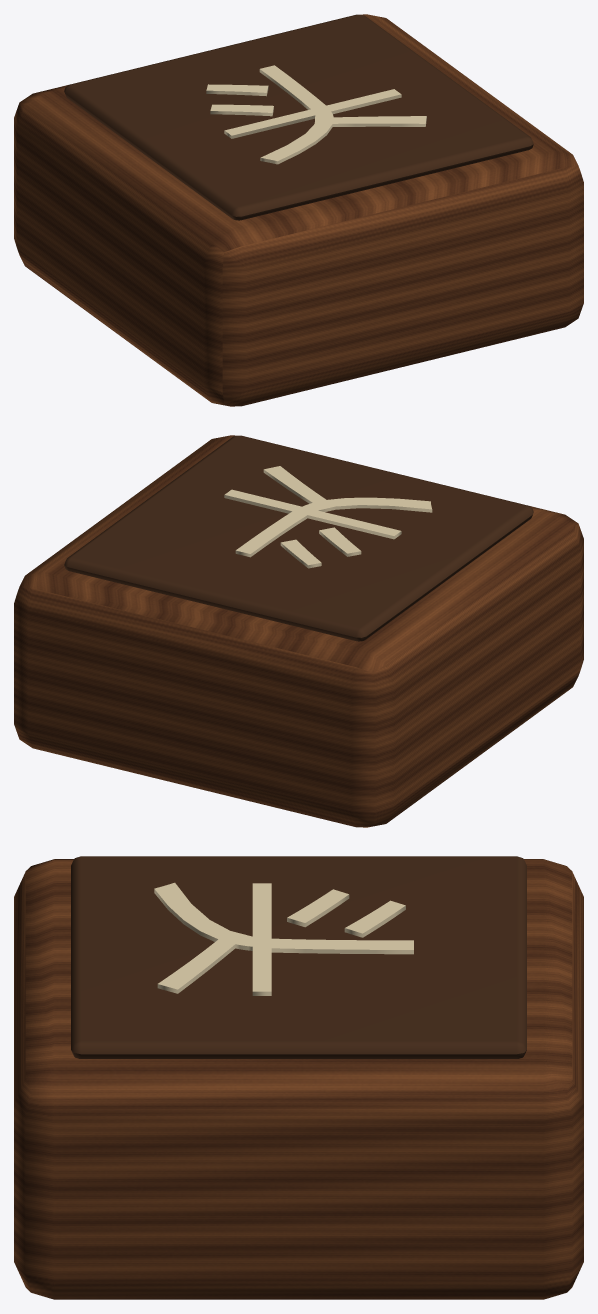
Rendered from Pickup_WoodBlock_头.fbx.
3 renders of one model, top to bottom at view 1: azimuth 30°, elevation 25°; view 2: azimuth 150°, elevation 25°; view 3: azimuth 270°, elevation 25°, orthographic. The views are drawn at different scales.
Parts seen in each view (by area): view 1: Letter block 头.001, Letter inset 头.001, Carved character 头.001; view 2: Letter block 头.001, Letter inset 头.001, Carved character 头.001; view 3: Letter block 头.001, Letter inset 头.001, Carved character 头.001.
Part boxes in pixels (<box>): Letter block 头.001: <box>14,14,583,406</box>; Letter inset 头.001: <box>64,14,533,220</box>; Carved character 头.001: <box>206,65,426,164</box>; Letter block 头.001: <box>14,435,583,827</box>; Letter inset 头.001: <box>64,435,533,641</box>; Carved character 头.001: <box>224,466,432,568</box>; Letter block 头.001: <box>14,859,583,1299</box>; Letter inset 头.001: <box>71,856,526,1058</box>; Carved character 头.001: <box>154,882,413,995</box>.
Bounding box in the file's own units: 0.085 × 0.0424 × 0.085.
Materials: 3 (1 with a texture image).
